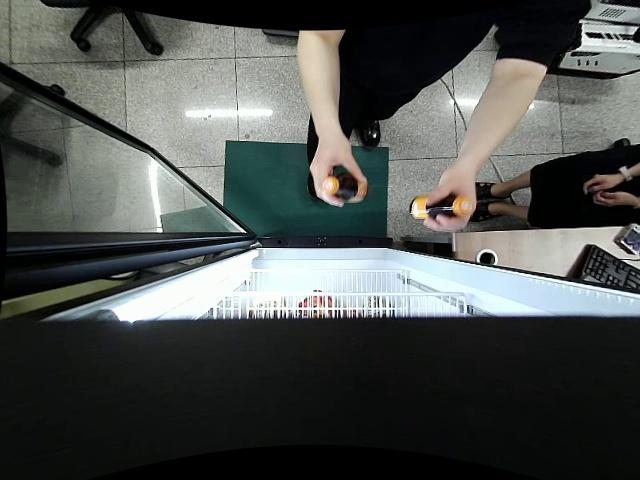00_hand: (307, 135, 369, 209), (421, 169, 479, 233)
17_vita500: (409, 192, 475, 225), (319, 171, 371, 205)
